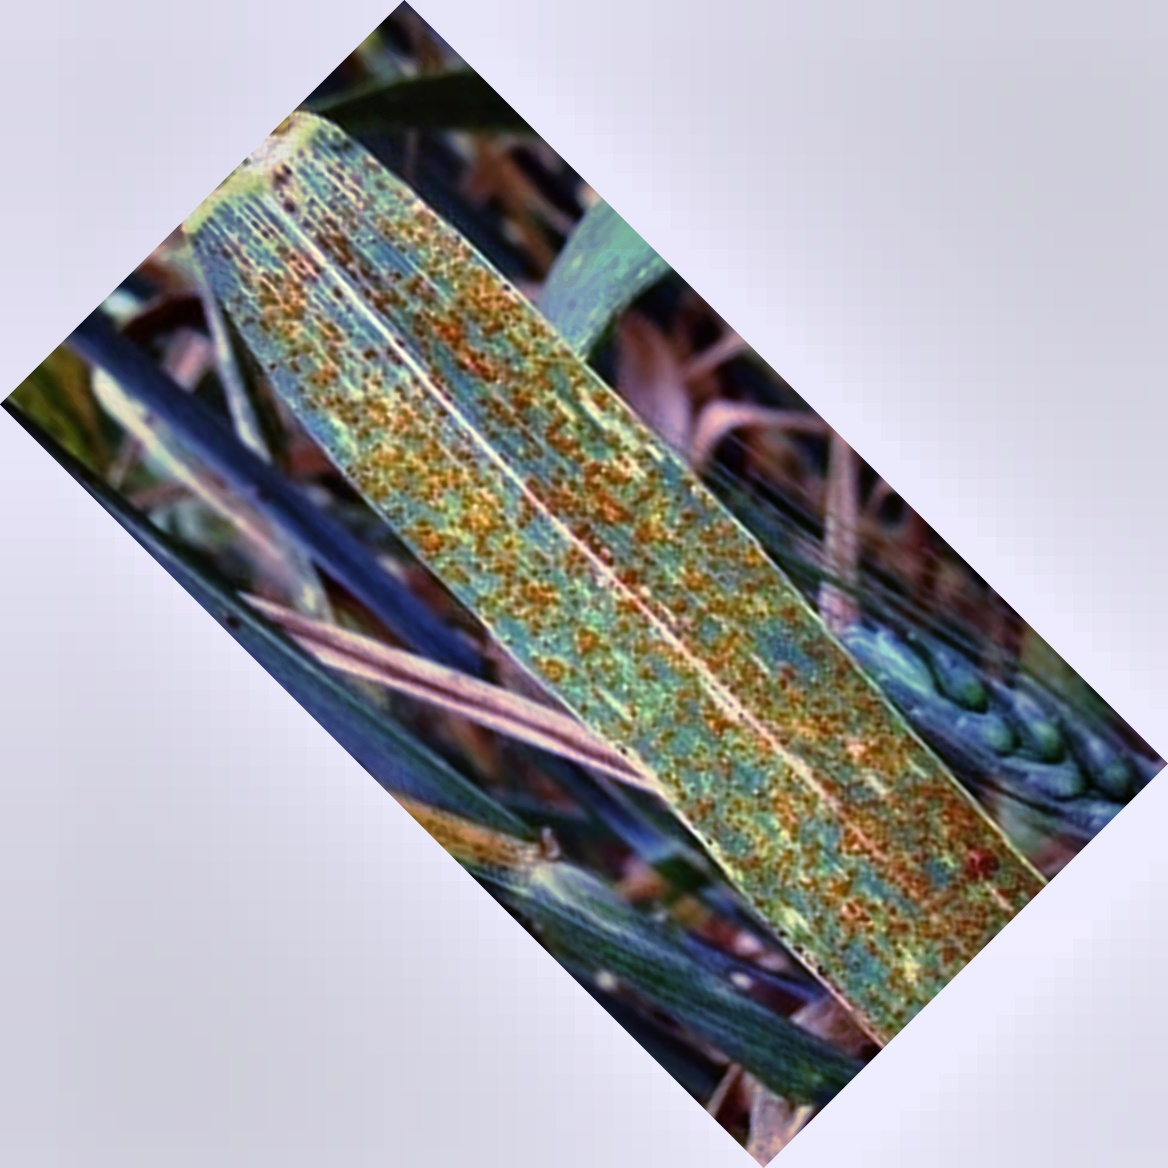Leaf Rust: (362, 310, 979, 923)
